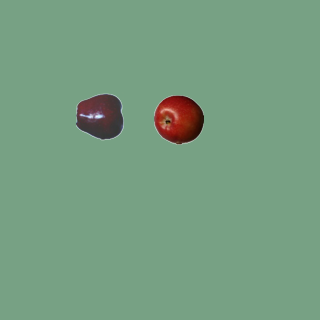Apple Braeburn: (153, 94, 203, 144)
Apple Red Delicious: (75, 91, 125, 141)
